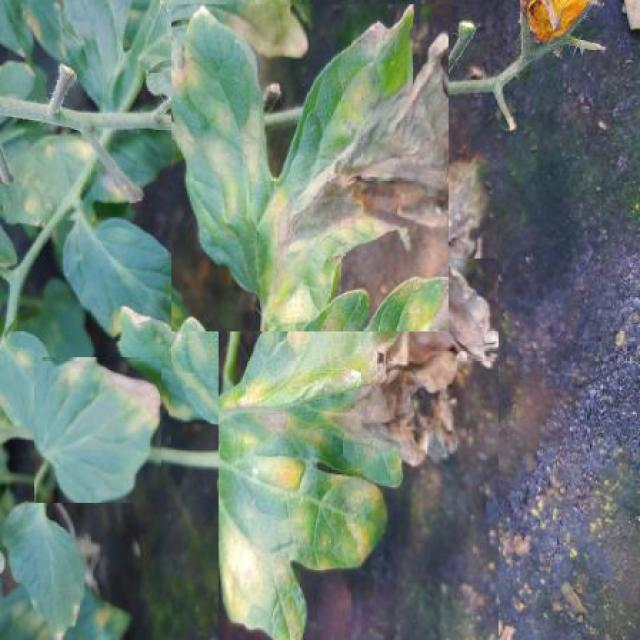Leaf Mold: (218, 258, 498, 640), (172, 4, 449, 332), (35, 357, 162, 503), (169, 297, 237, 424)
